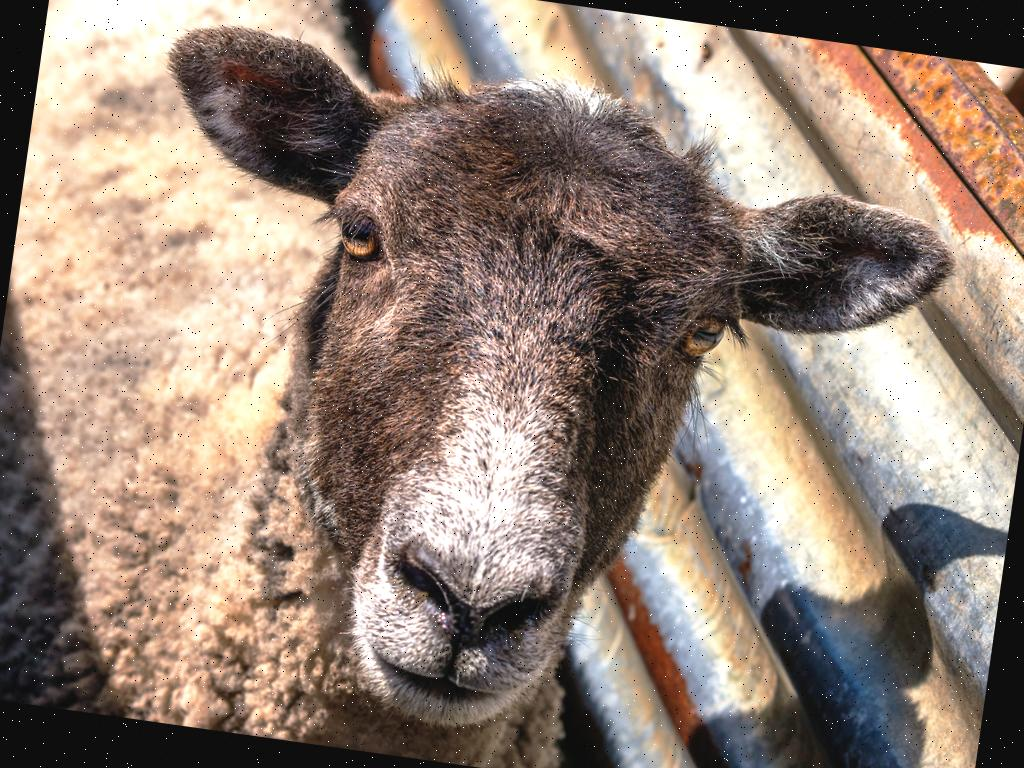Sheep: (0, 0, 981, 768)
